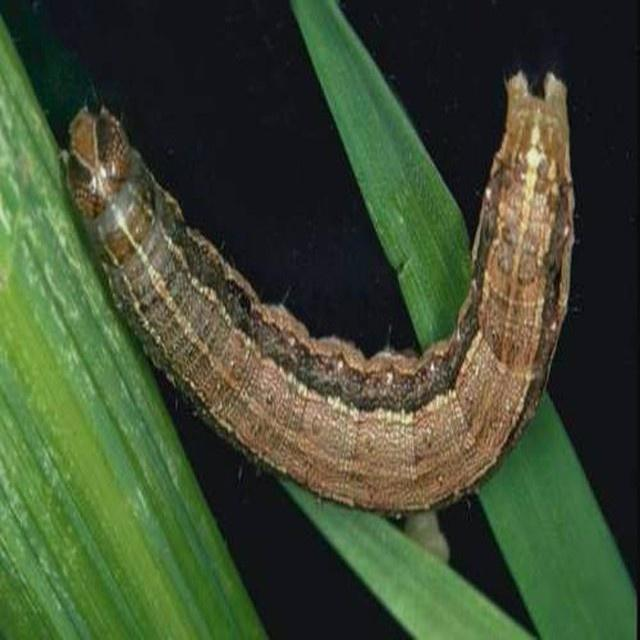gusano_cogollero: (51, 63, 578, 521)
